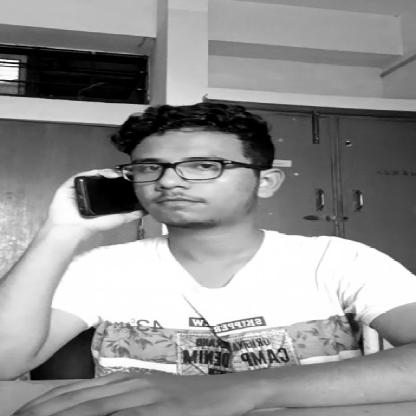Distracted: (113, 108, 274, 218)
